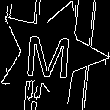M_N: (25, 27, 76, 80)
